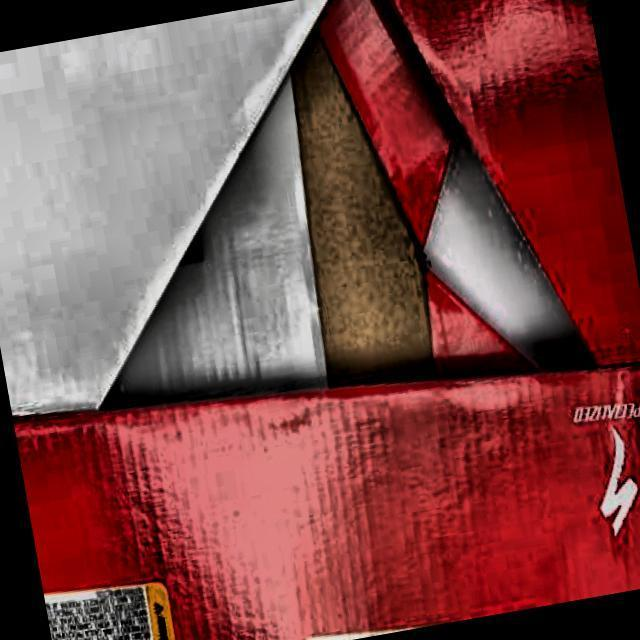cardboard: (11, 300, 640, 640)
